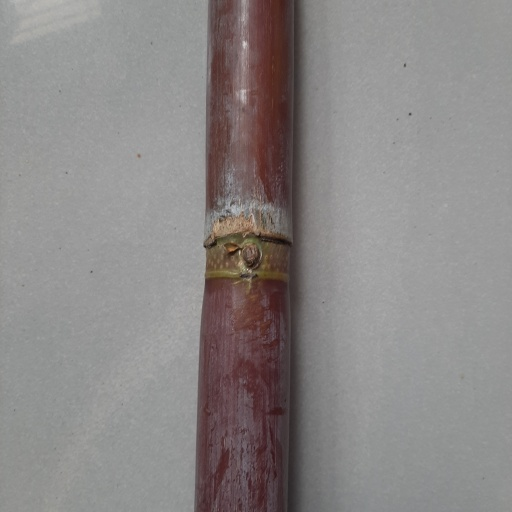Bud: (239, 242, 263, 271)
